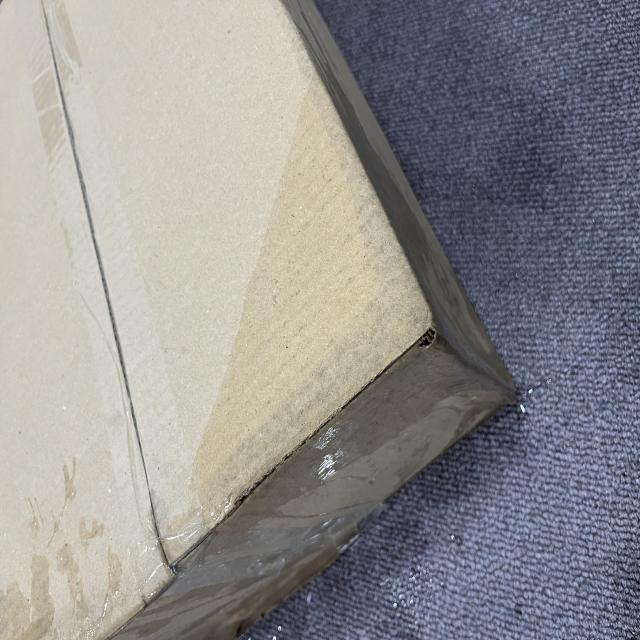wet: (67, 221, 422, 640)
